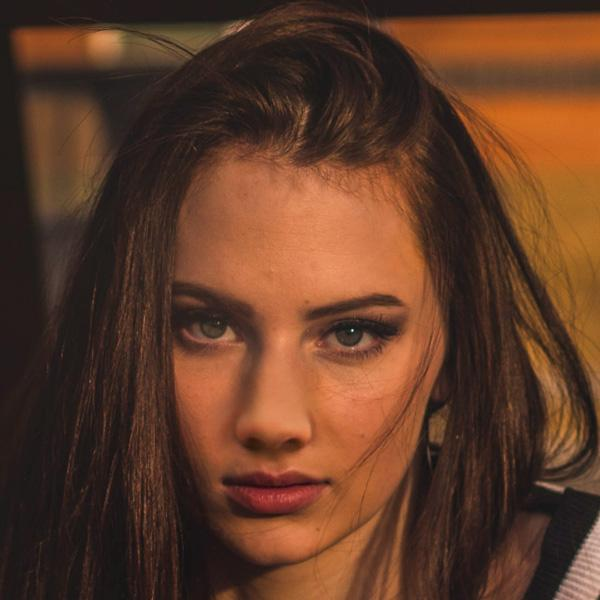Eyes: (306, 311, 398, 366), (166, 301, 250, 356)
